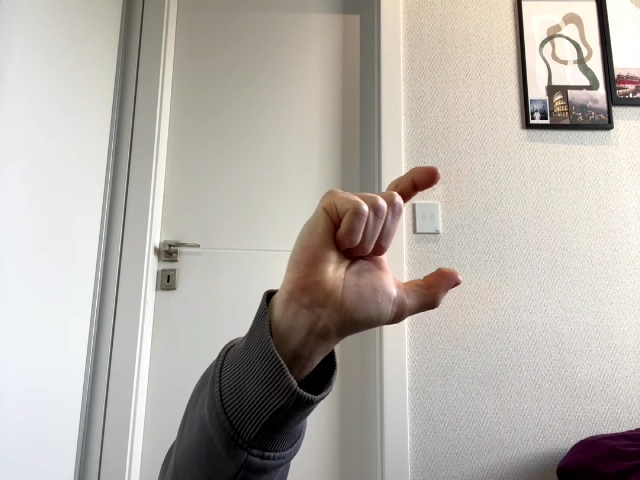C: (280, 167, 462, 337)
